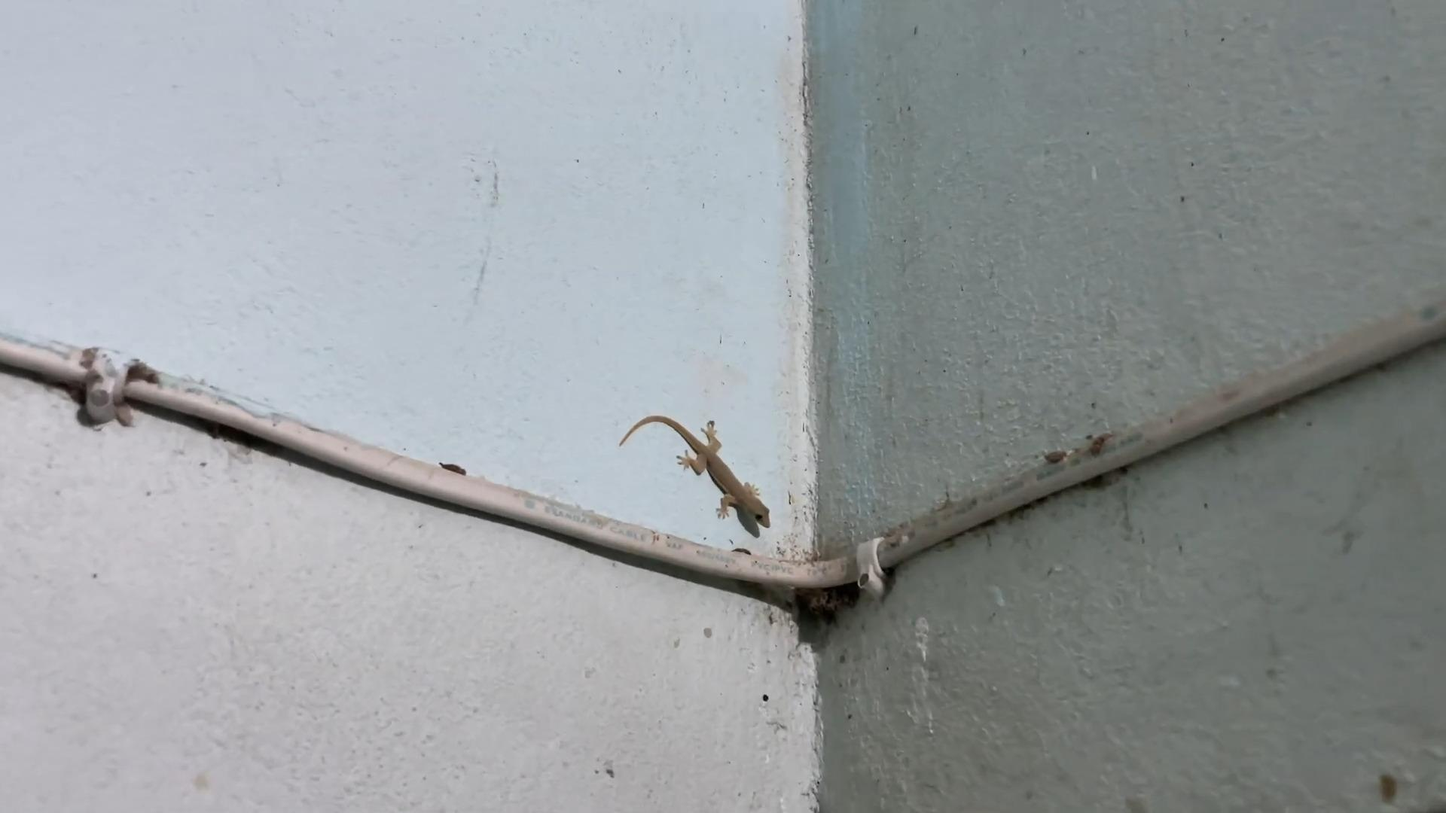lizard: (625, 400, 807, 521)
